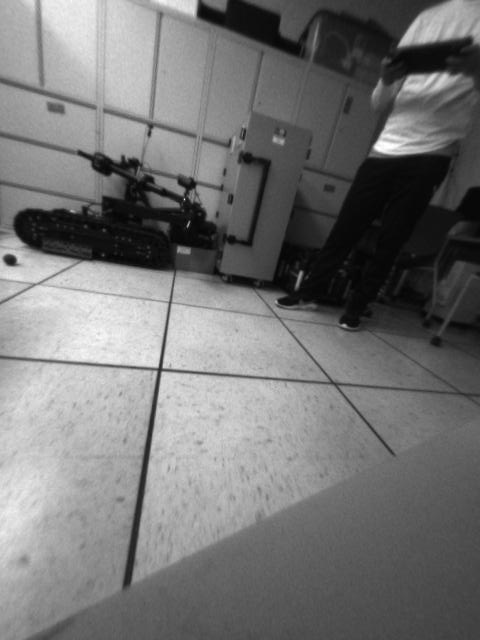dogtoy: (1, 246, 21, 269)
